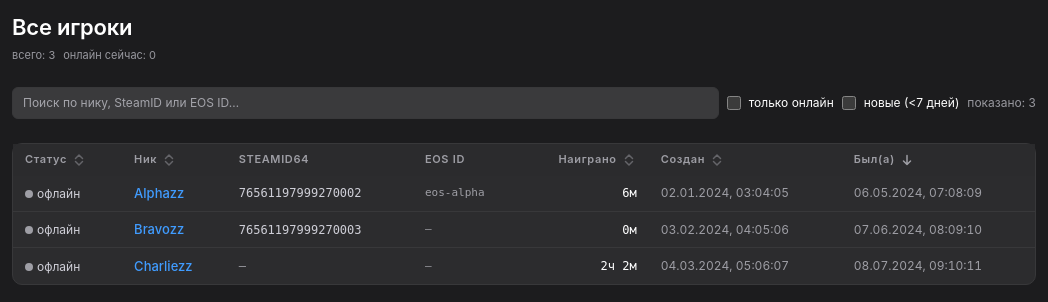
PlayersPage › searches server-side by SteamID64 and by EOS ID (via the q param, #485)
Expected: the link "Alphazz" is shown, [134,184,184,203]
In the search field with placeholder "Поиск по нику, SteamID или EOS ID…": (365, 103) [12,87,719,119], type "76561197999270003"
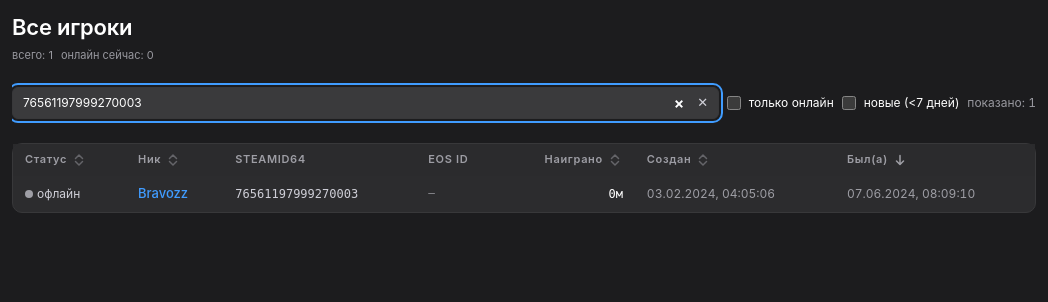
Expected: the link "Bravozz" is shown, [138,184,188,203]
Result: the link "Alphazz" is gone
Replace the text in the search field with placeholder "Поиск по нику, SteamID или EOS ID…" with "eos-alpha": (365, 103) [12,87,719,119]
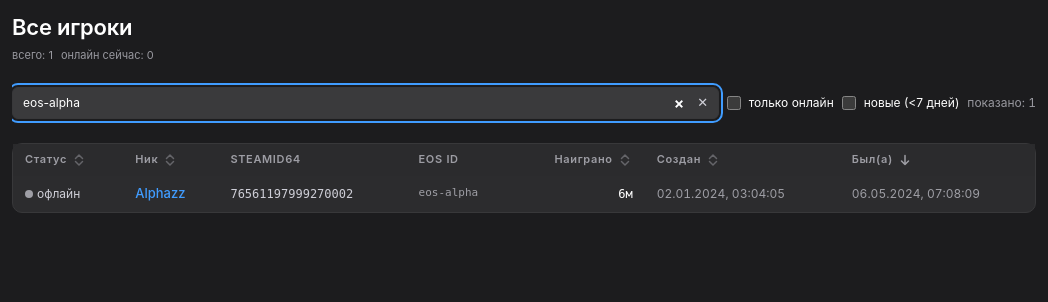
Result: the link "Bravozz" is gone
Result: the link "Alphazz" is shown at [135,184,186,203]
